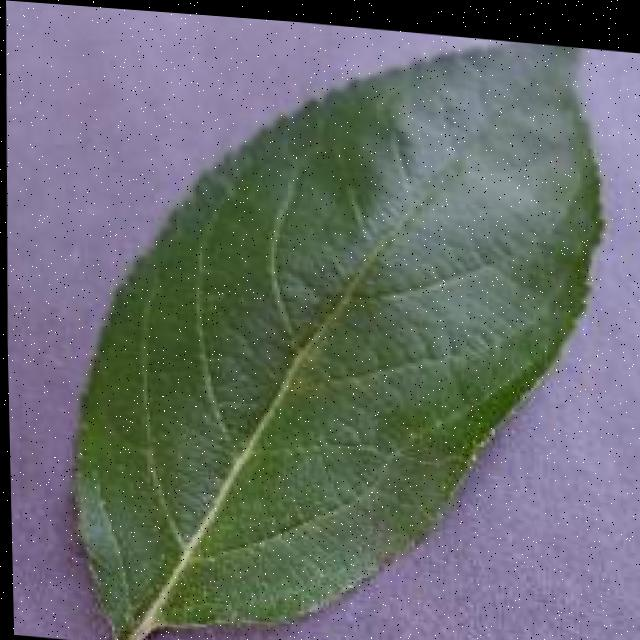healthy: (53, 4, 626, 640)
